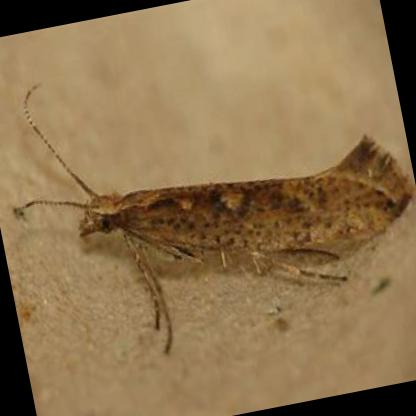plutella: (8, 70, 416, 362)
